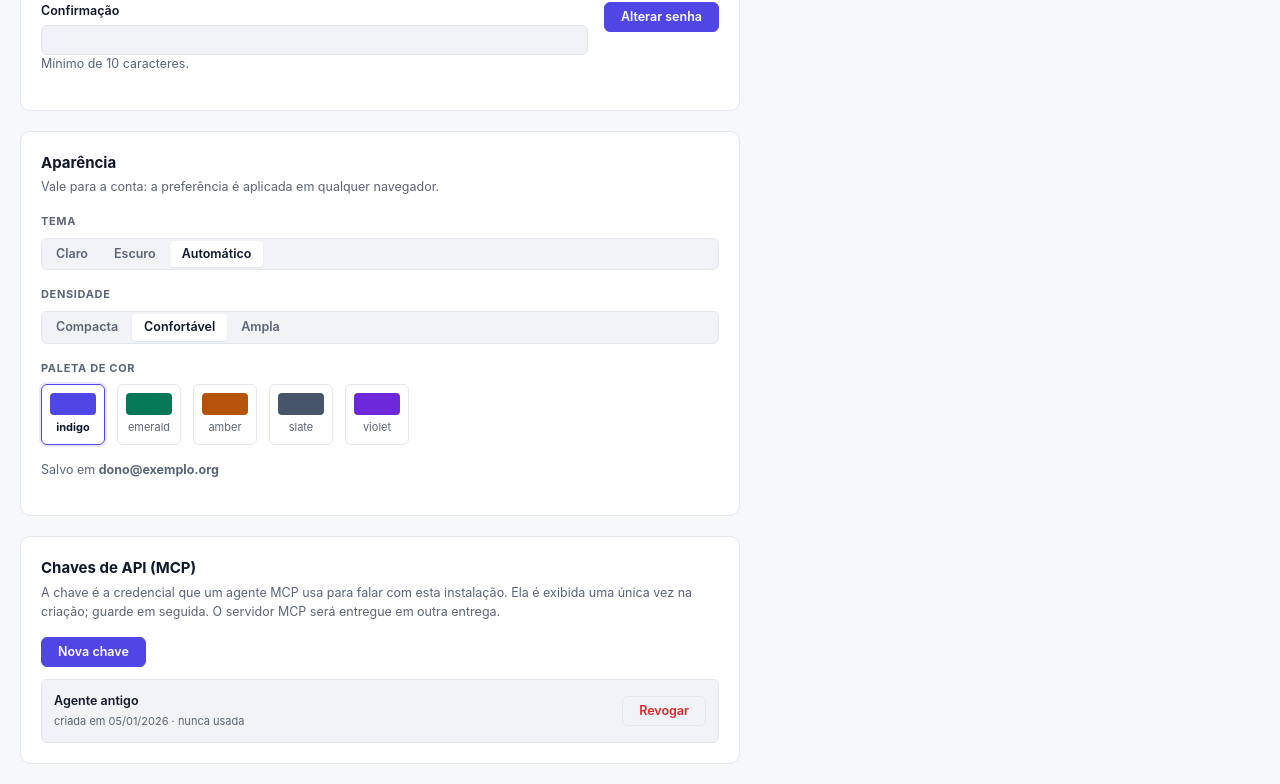
AccountPage › revoga chave com confirmação
(page scrolled)
Click the button with test id "api-key-revoke" at (664, 711), box [622, 696, 706, 726]
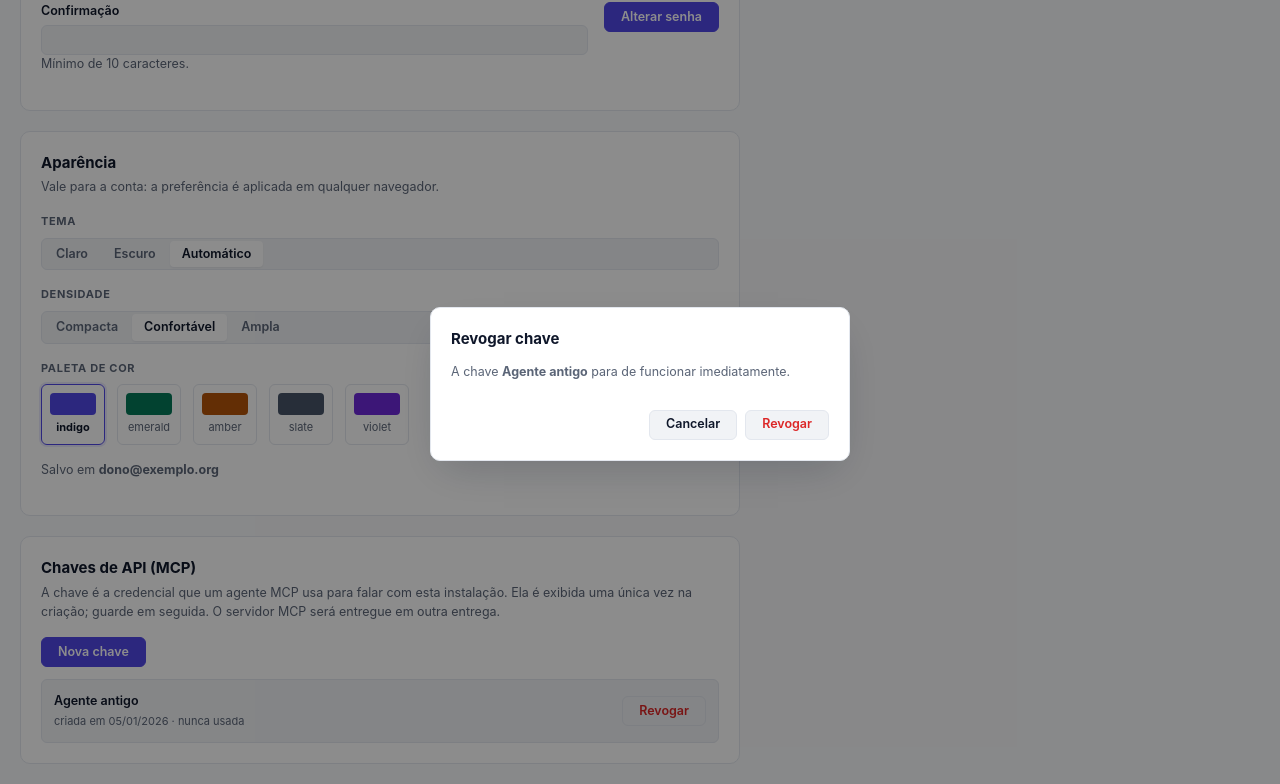
Check: the number of buttons with test id "api-key-revoke-confirm" is 1, box [745, 410, 829, 440]
Click the button with test id "api-key-revoke-cancel" at (693, 425), box [649, 410, 737, 440]
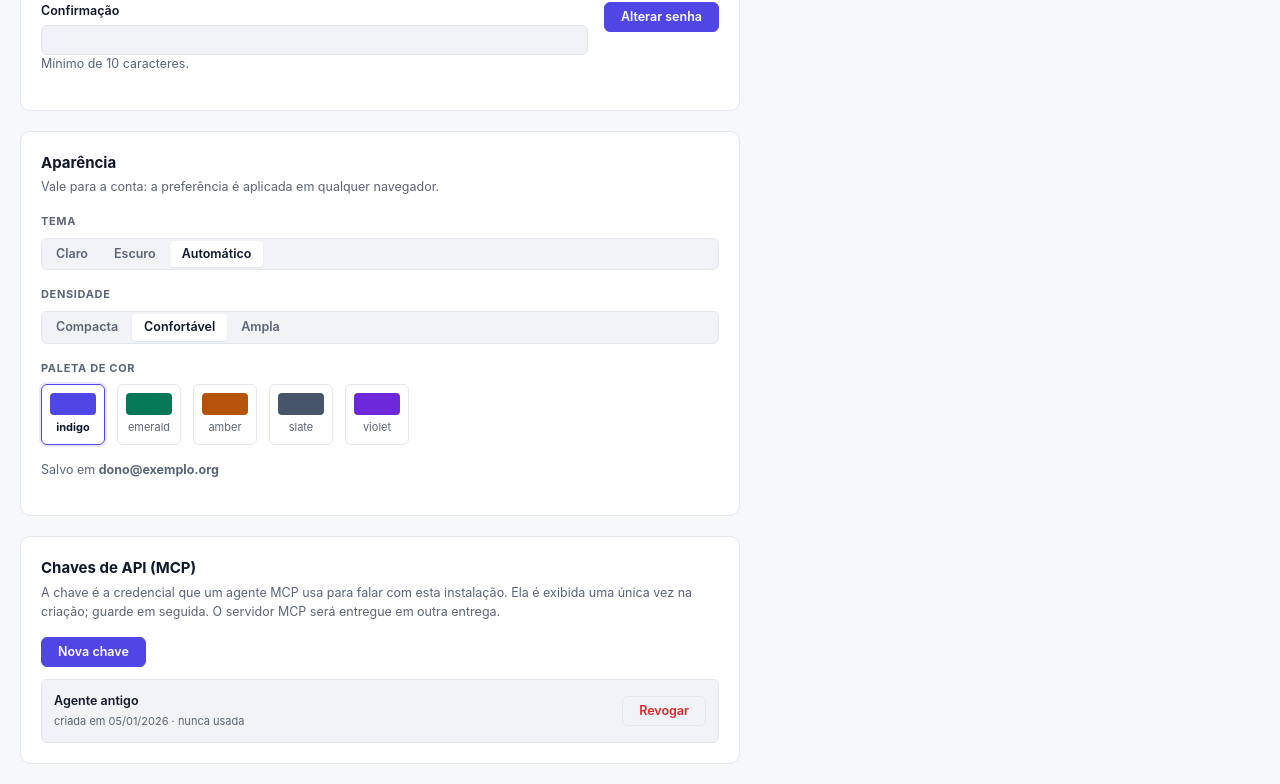
Check: no buttons with test id "api-key-revoke-confirm" are shown
Click the button with test id "api-key-revoke" at (664, 711), box [622, 696, 706, 726]
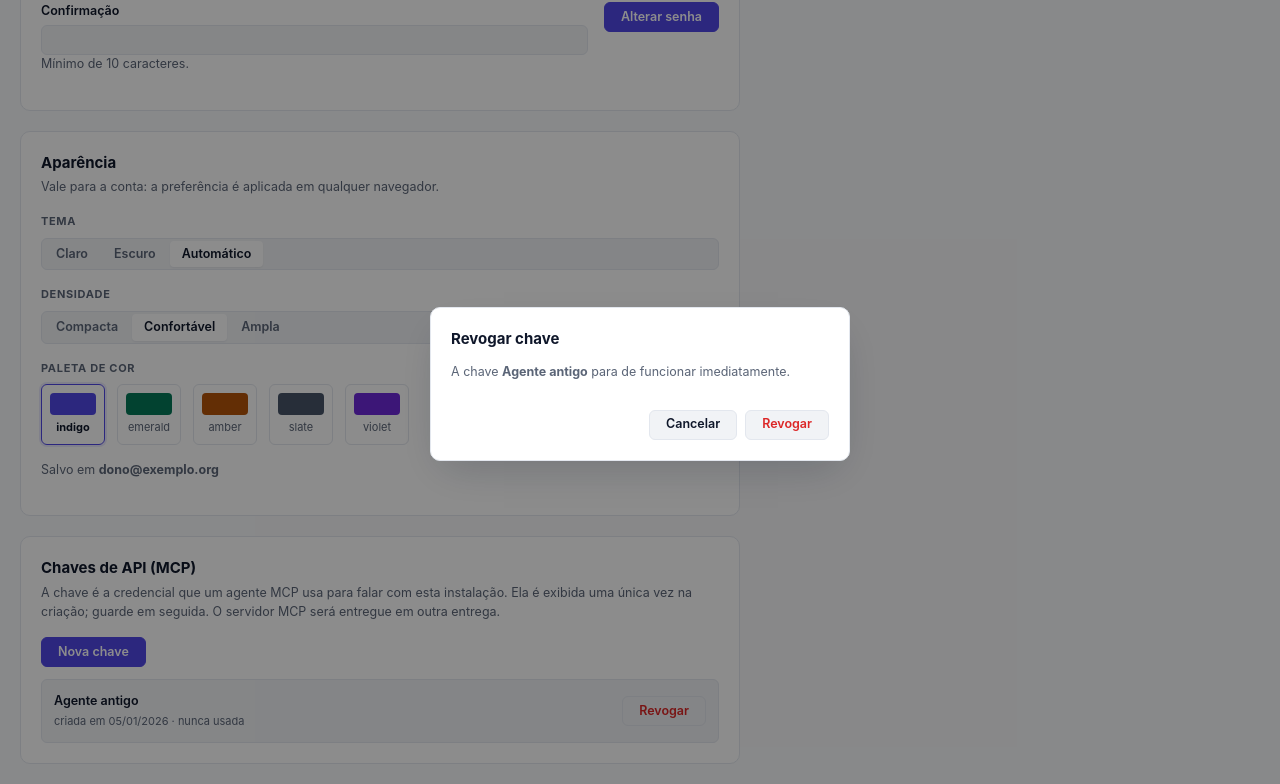
Click the button with test id "api-key-revoke-confirm" at (787, 425), box [745, 410, 829, 440]
(page scrolled)
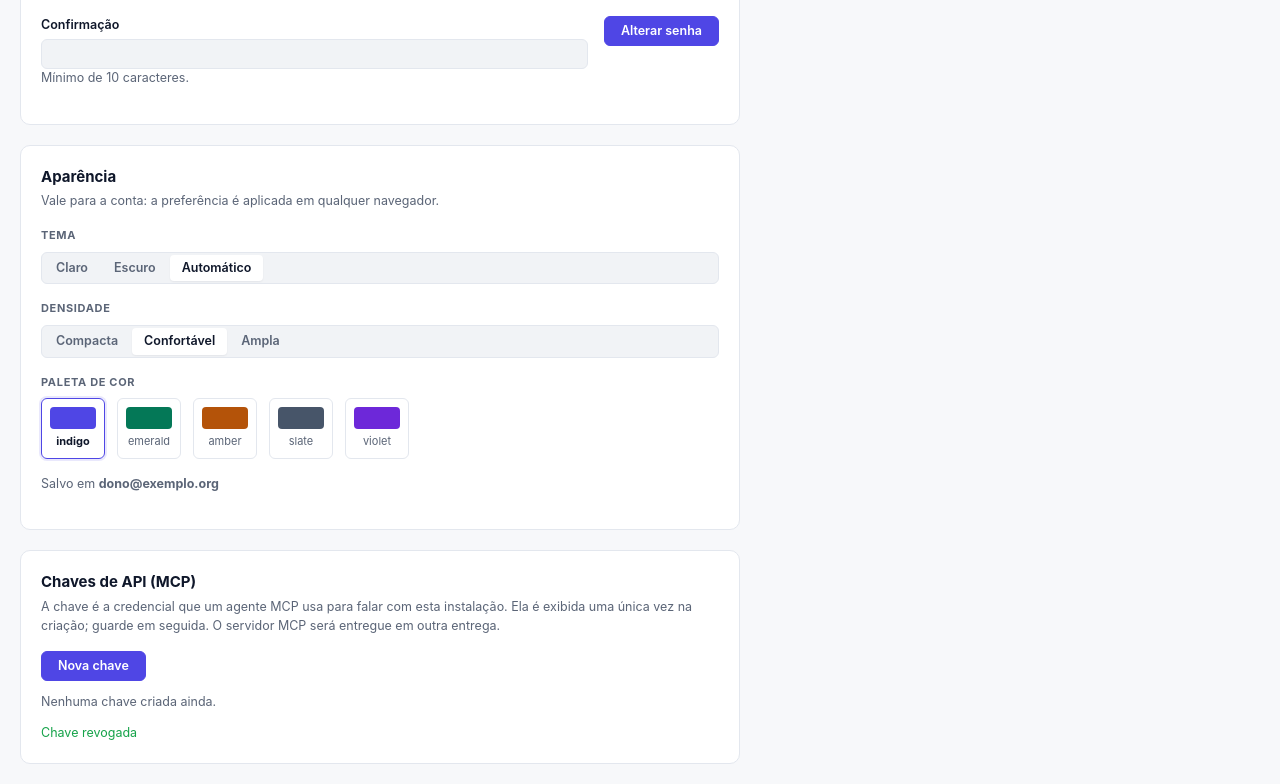
Check: no elements with test id "api-key-item" are shown
